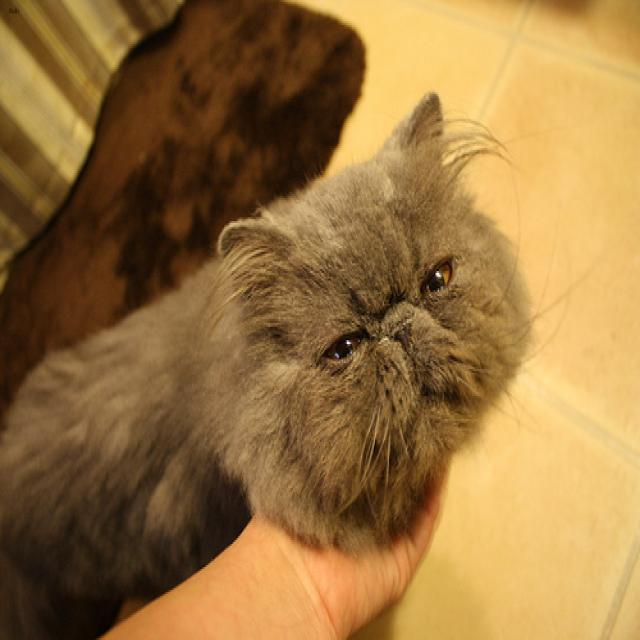Persian: (209, 80, 544, 559)
